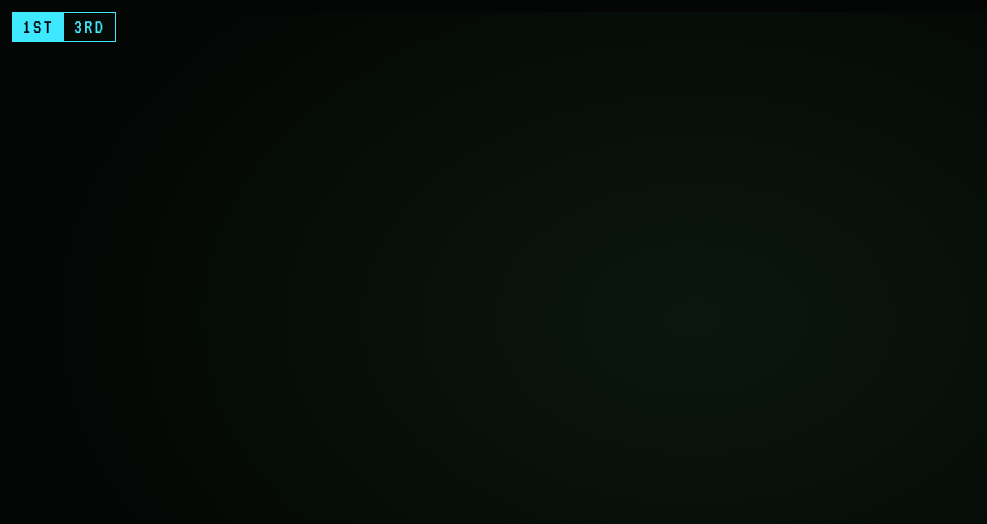
Test: view selection and terrain availability › preserves a manual choice for the same site
Click the button "3RD": point(89, 27) x1=63 y1=13 x2=115 y2=41
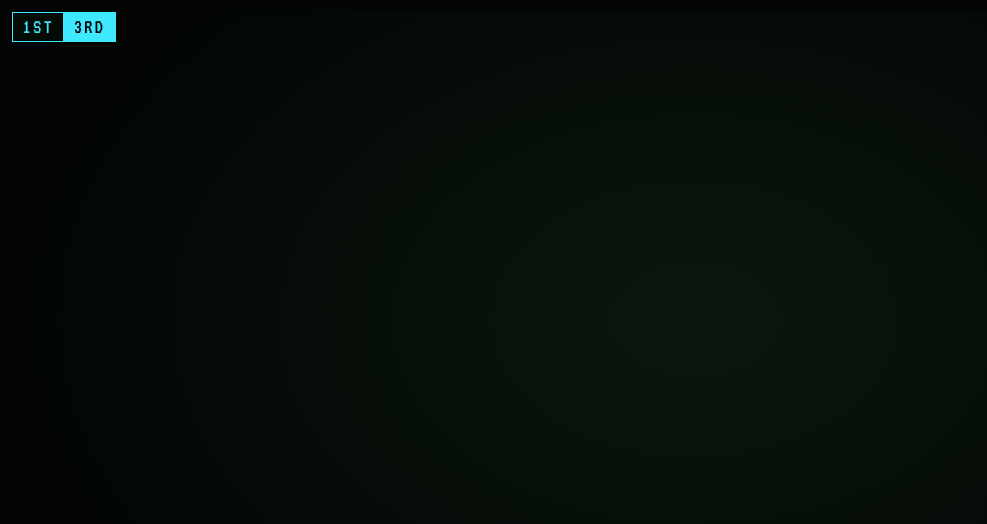
expect the button "1ST" is not pressed: met
expect the button "3RD" is pressed: met, box x1=63 y1=13 x2=115 y2=41
Click the button "1ST": point(38, 27) x1=13 y1=13 x2=63 y2=41
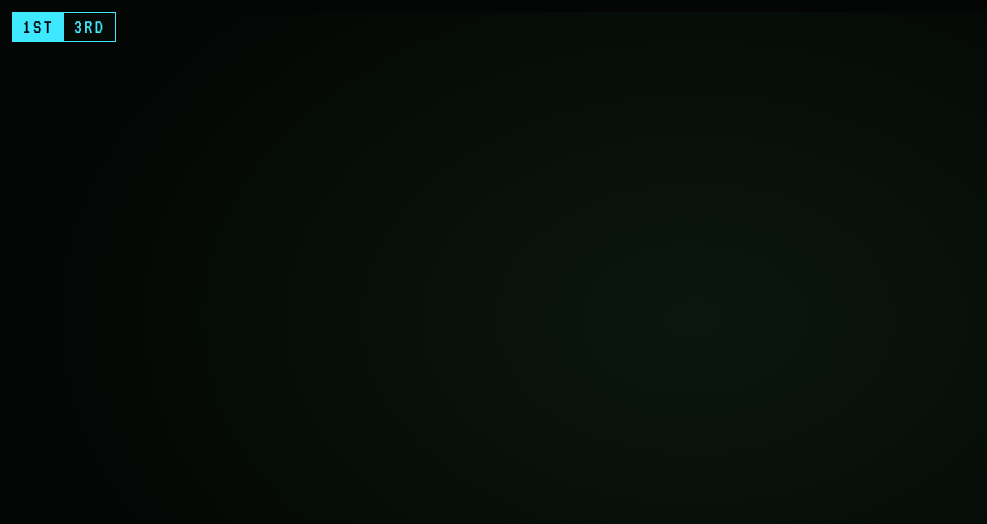
expect the button "1ST" is pressed: met, box x1=13 y1=13 x2=63 y2=41
expect the button "3RD" is not pressed: met, box x1=63 y1=13 x2=115 y2=41
